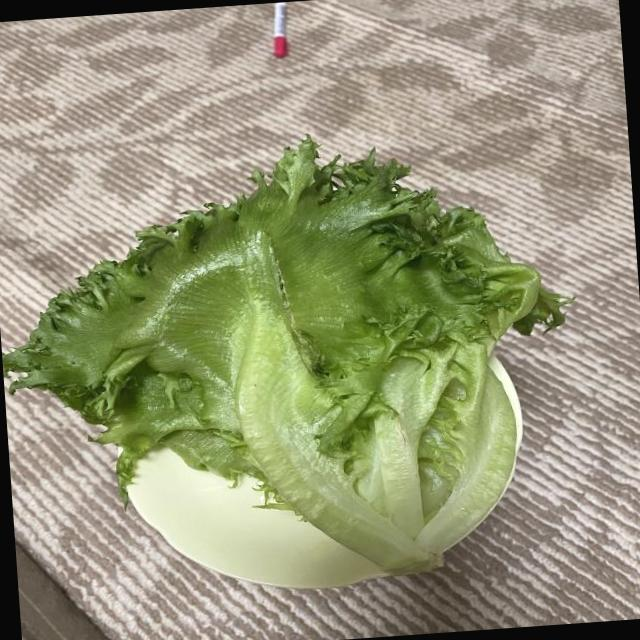Lettuce-Ready-to-Harvest: (2, 138, 567, 571)
